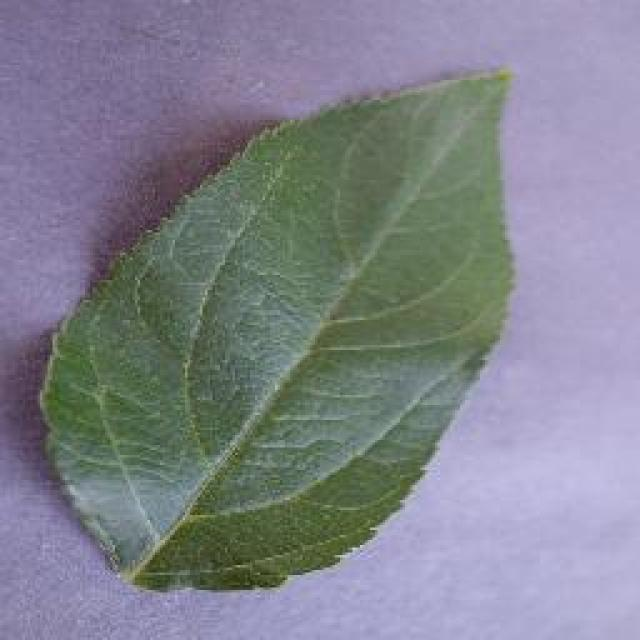apple healthy: (35, 63, 520, 595)
